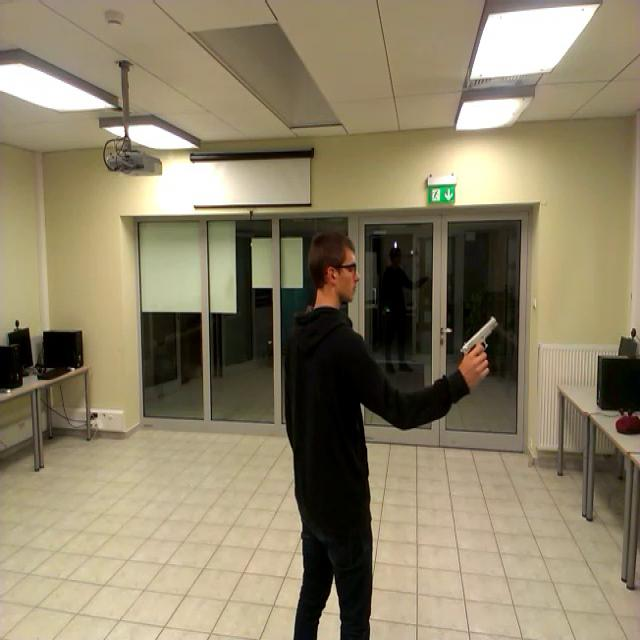handgun: (454, 312, 504, 374)
